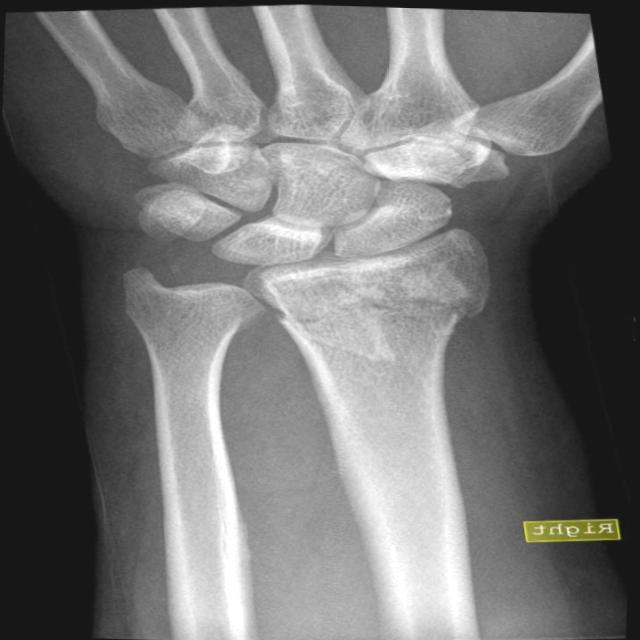Transverse Displaced: (271, 285, 493, 339)
